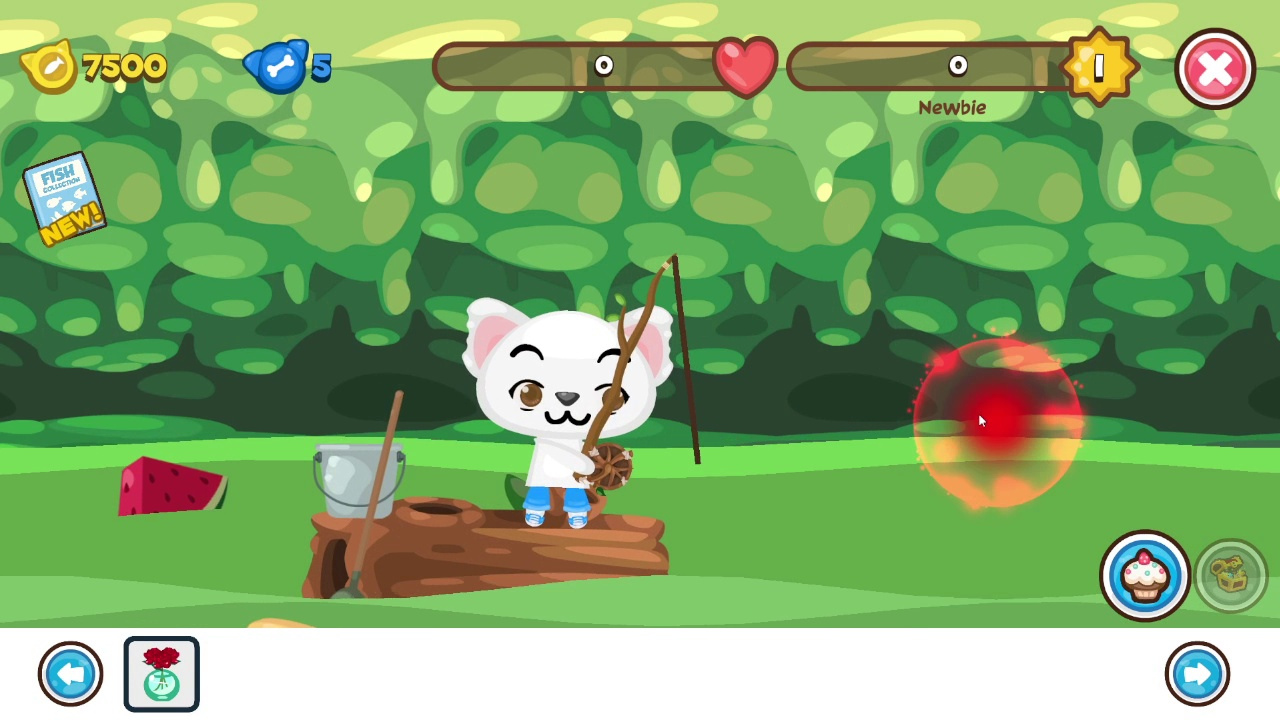point: (911, 336, 1085, 511)
